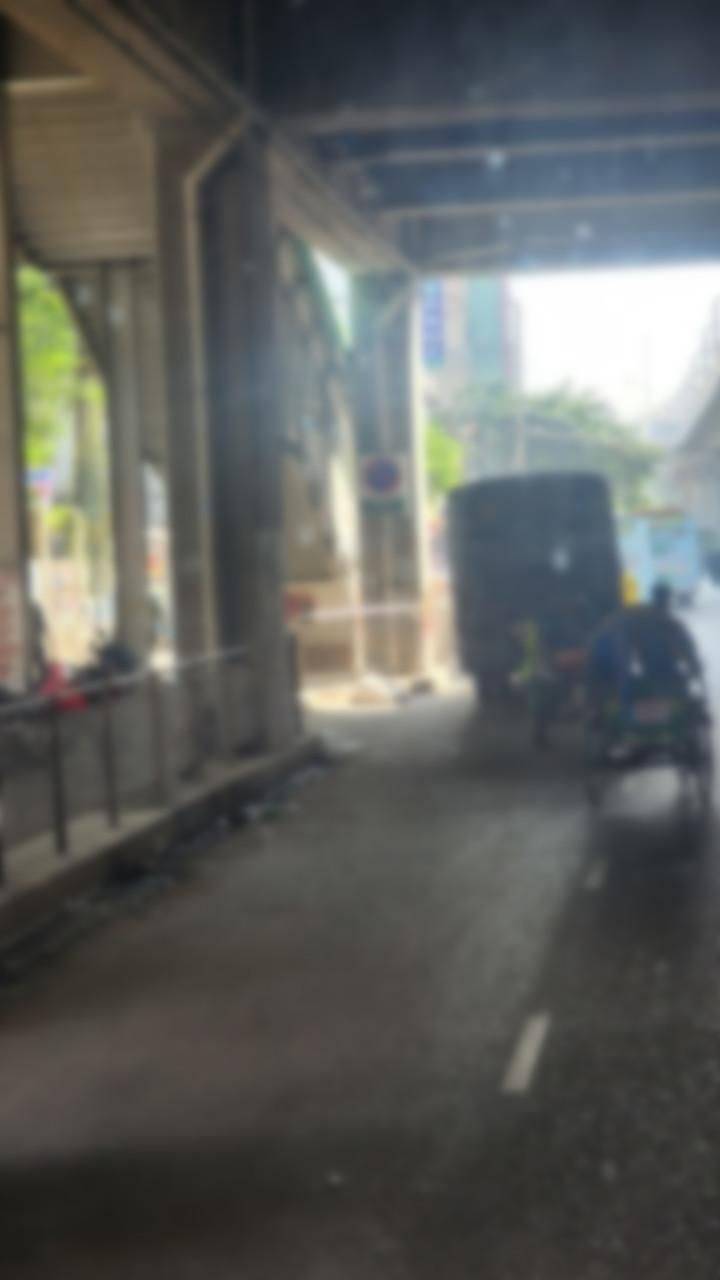No Parking: (348, 450, 416, 526)
